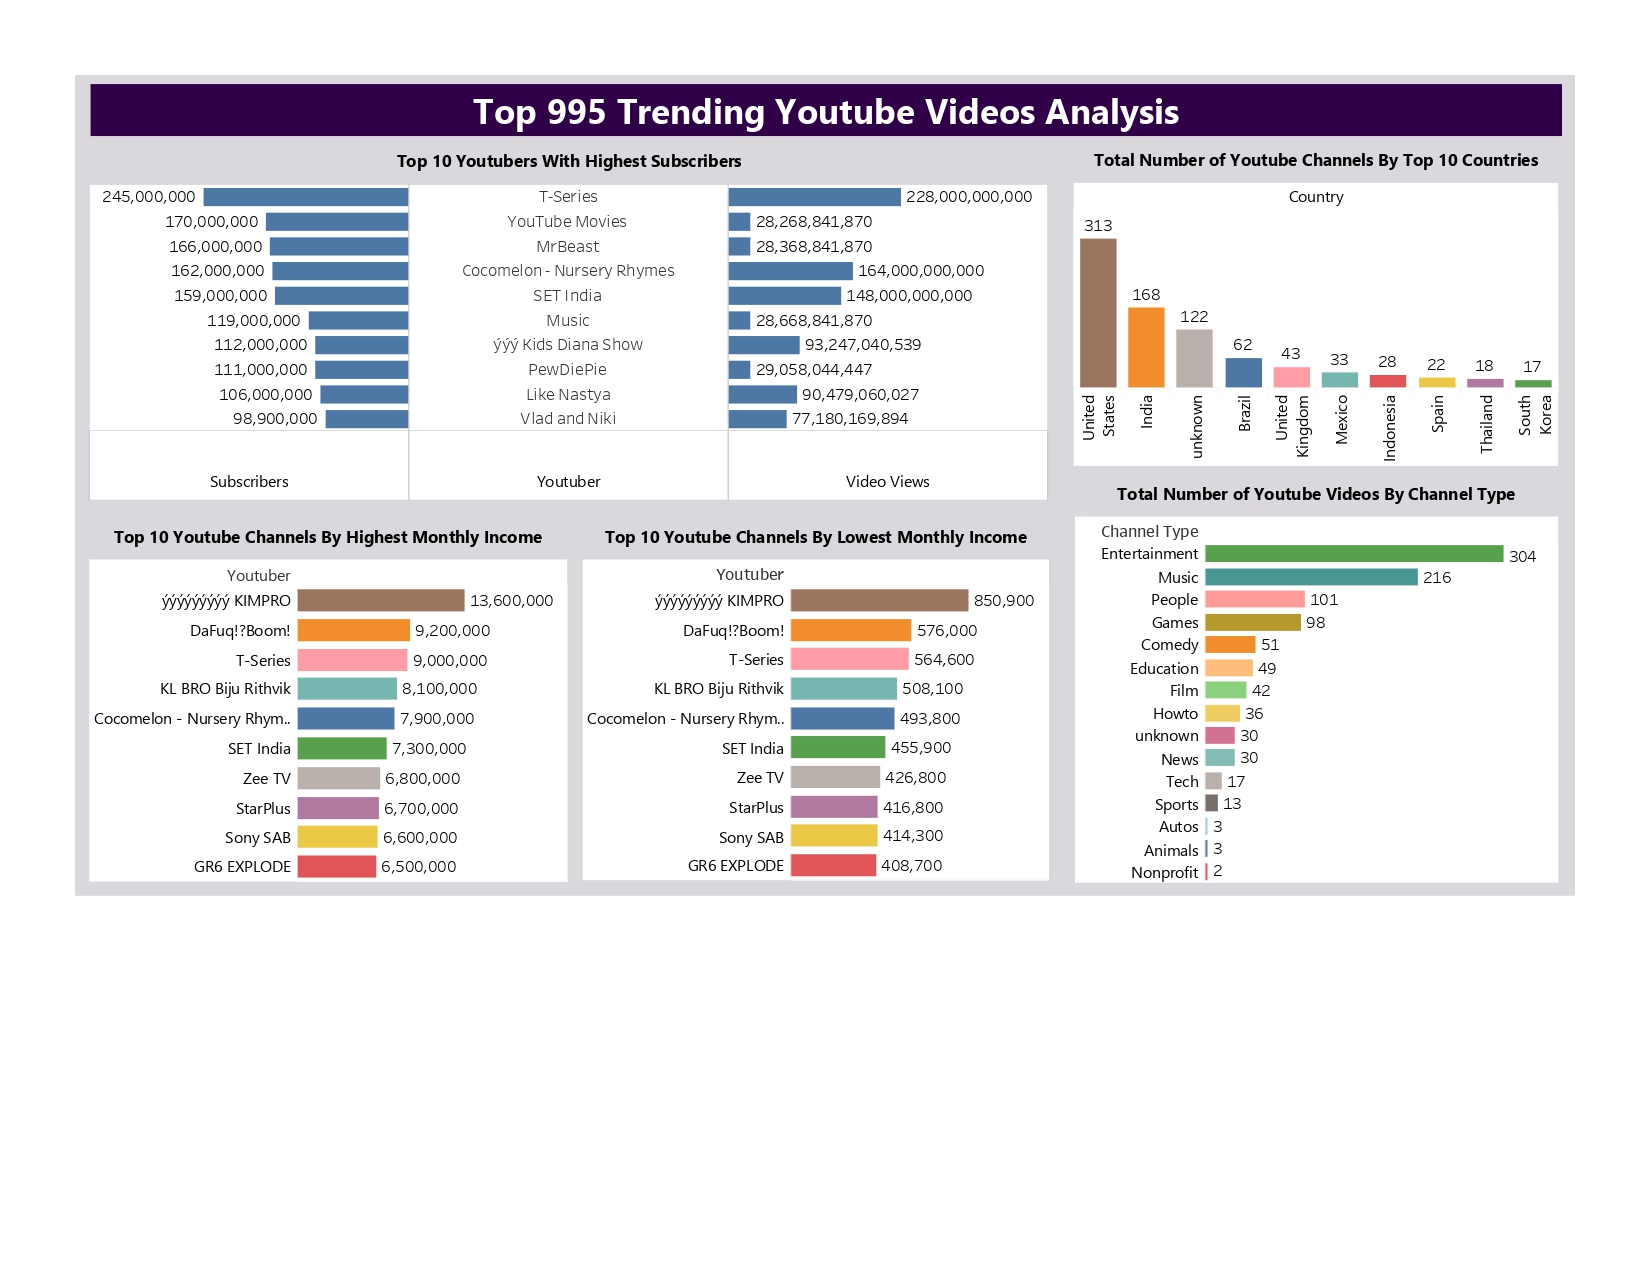

The dashboard page shown, as its layout file describes it:
{"tool":"tableau","page":{"name":"Dashboard 1","canvas":[1000,1000],"units":"permille","ordinal":0},"visuals":[{"type":"text","box":[6.9,4.8,987.9,76]},{"type":"worksheet","title":"Total Number of Youtube Channels By Top 10 Countries","mark":"Automatic","rows":["Youtuber"],"cols":["Country"],"box":[665.8,79.1,322.9,397.2]},{"type":"worksheet","title":"Top 10 Youtubers With Highest Subscribers","mark":"Automatic","rows":["Youtuber"],"cols":["subscribers ","Calculation_209980391476027392","video views "],"box":[9.5,80.7,639.8,438.3]},{"type":"worksheet","title":"Total Number of Youtube Videos By Channel Type","mark":"Automatic","rows":["channel_type"],"cols":["Cleaned_Global_Youtube_Statistics.csv_E1CA63F103F34FBCAA3D49"],"box":[666.7,485.8,322.1,498.4]},{"type":"worksheet","title":"Top 10 Youtube Channels By Highest Monthly Income","mark":"Automatic","rows":["Youtuber"],"cols":["highest_monthly_earnings"],"box":[9.5,538,318.6,444.6]},{"type":"worksheet","title":"Top 10 Youtube Channels By Lowest Monthly Income","mark":"Automatic","rows":["Youtuber"],"cols":["lowest_monthly_earnings"],"box":[338.5,538,310.8,443]}]}

Visuals, with their boxes on the dashboard's canvas, which has no fixed pixel size, in thousandths of its width and height (x1, y1, x2, y2). These are canvas units, not pixel positions in the 1650x1275 screenshot, which may show the page scaled, cropped or inside an application window:
text: (7, 5, 995, 81)
"Total Number of Youtube Channels By Top 10 Countries" worksheet: (666, 79, 989, 476)
"Top 10 Youtubers With Highest Subscribers" worksheet: (10, 81, 649, 519)
"Total Number of Youtube Videos By Channel Type" worksheet: (667, 486, 989, 984)
"Top 10 Youtube Channels By Highest Monthly Income" worksheet: (10, 538, 328, 983)
"Top 10 Youtube Channels By Lowest Monthly Income" worksheet: (338, 538, 649, 981)
